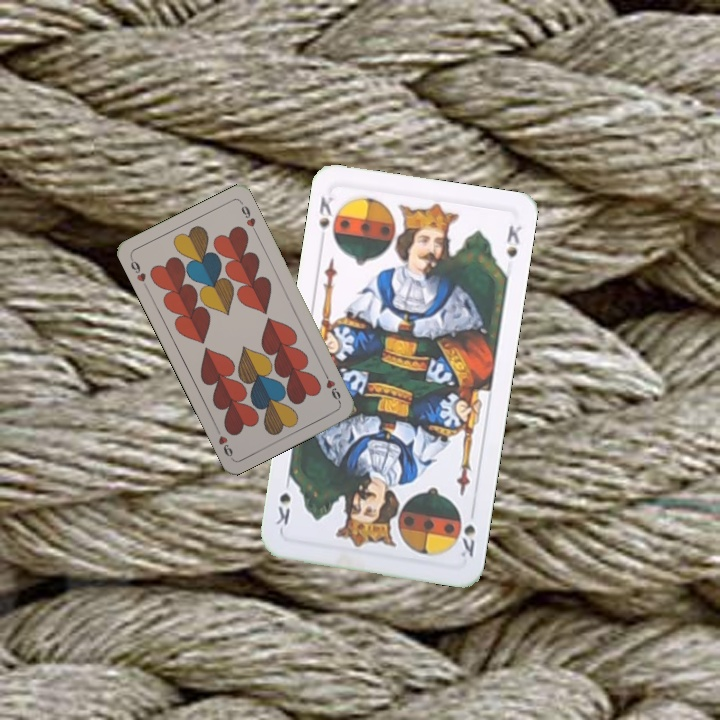H9: (319, 368, 343, 406), (126, 254, 150, 291)
SK: (314, 188, 343, 247), (456, 520, 478, 560)
